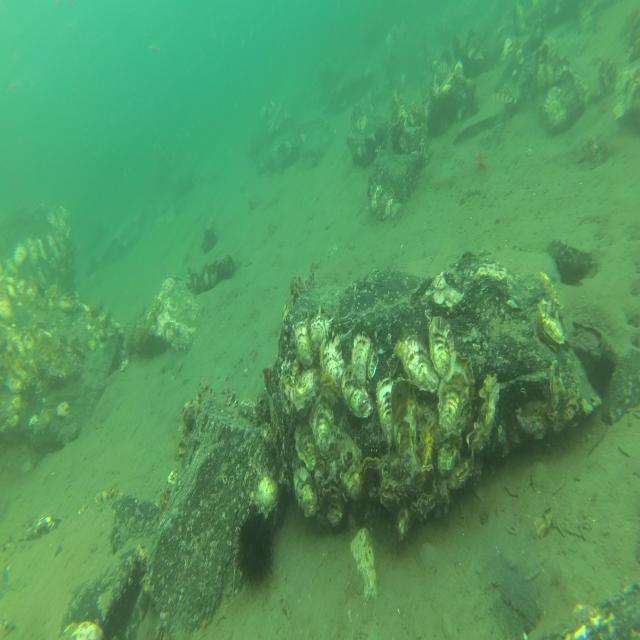echinus: (238, 508, 273, 587)
